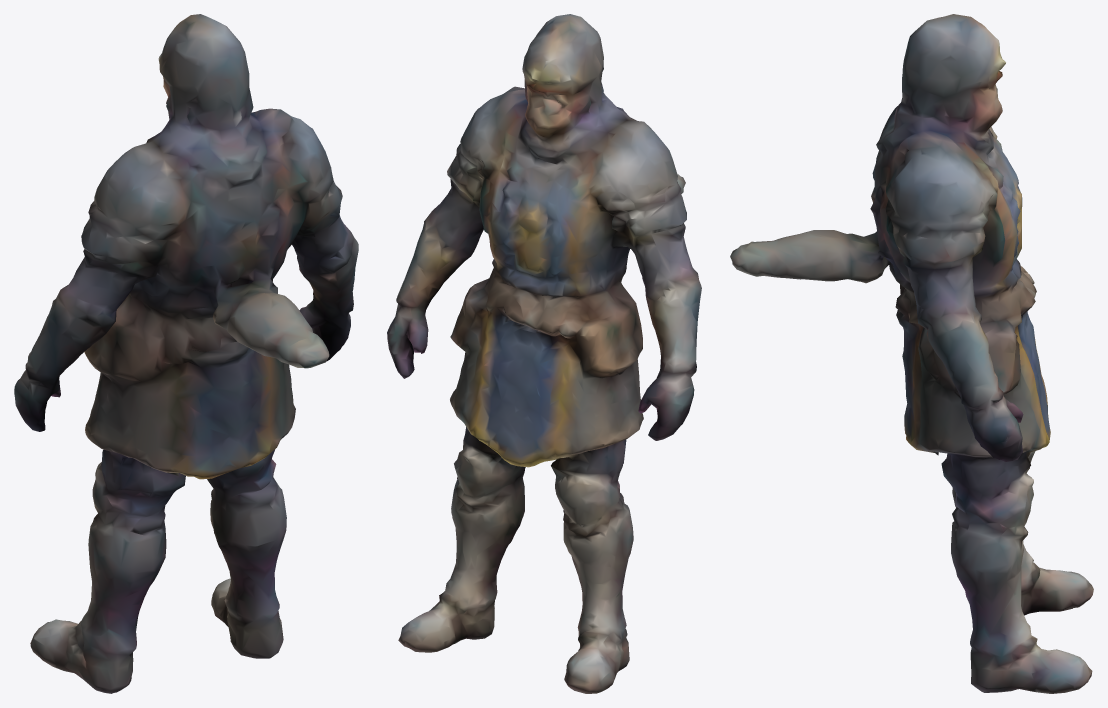
File: npc_01_guarda_masculino.glb
3 renders of one model, left to right at view 1: azimuth 30°, elevation 25°; view 2: azimuth 150°, elevation 25°; view 3: azimuth 270°, elevation 25°, orthographic. The views are drawn at different scales.
Bounding box in the file's own units: 0.5105 × 1.01 × 0.5216.
